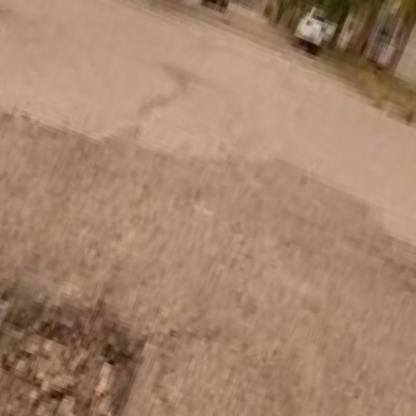pothole: (0, 260, 158, 416)
